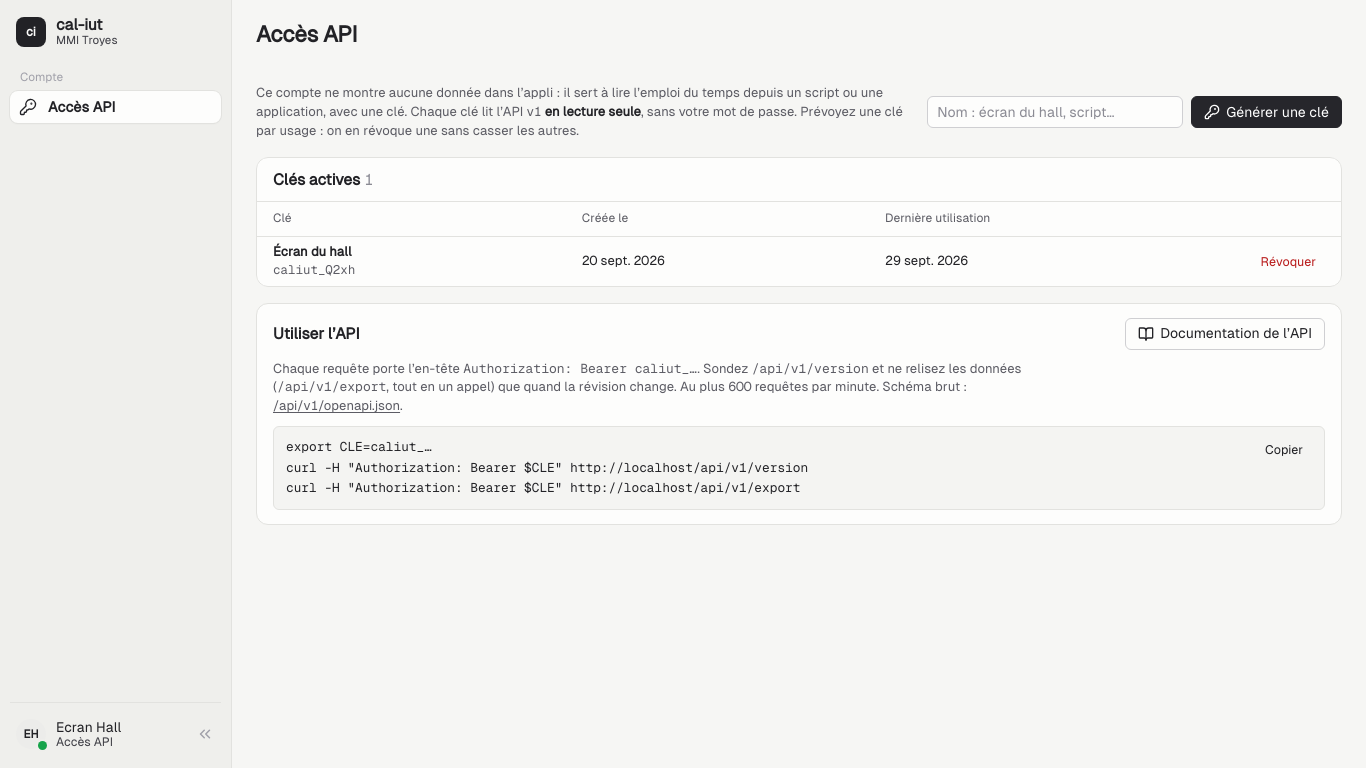
Scenario: App — compte « Accès API » › navigation réduite à cet écran, sans recherche ni semaine
expect the text "Écran du hall" is shown: met, box [273, 244, 352, 259]
Ctrl K n'ouvre rien.
Press k
Le menu du compte : rôle, thème, déconnexion — pas d'entrée « Clé API ».
Click the button with aria-label "compte ecran.hall@x.test". click: (98, 734)
box: [10, 713, 185, 756]
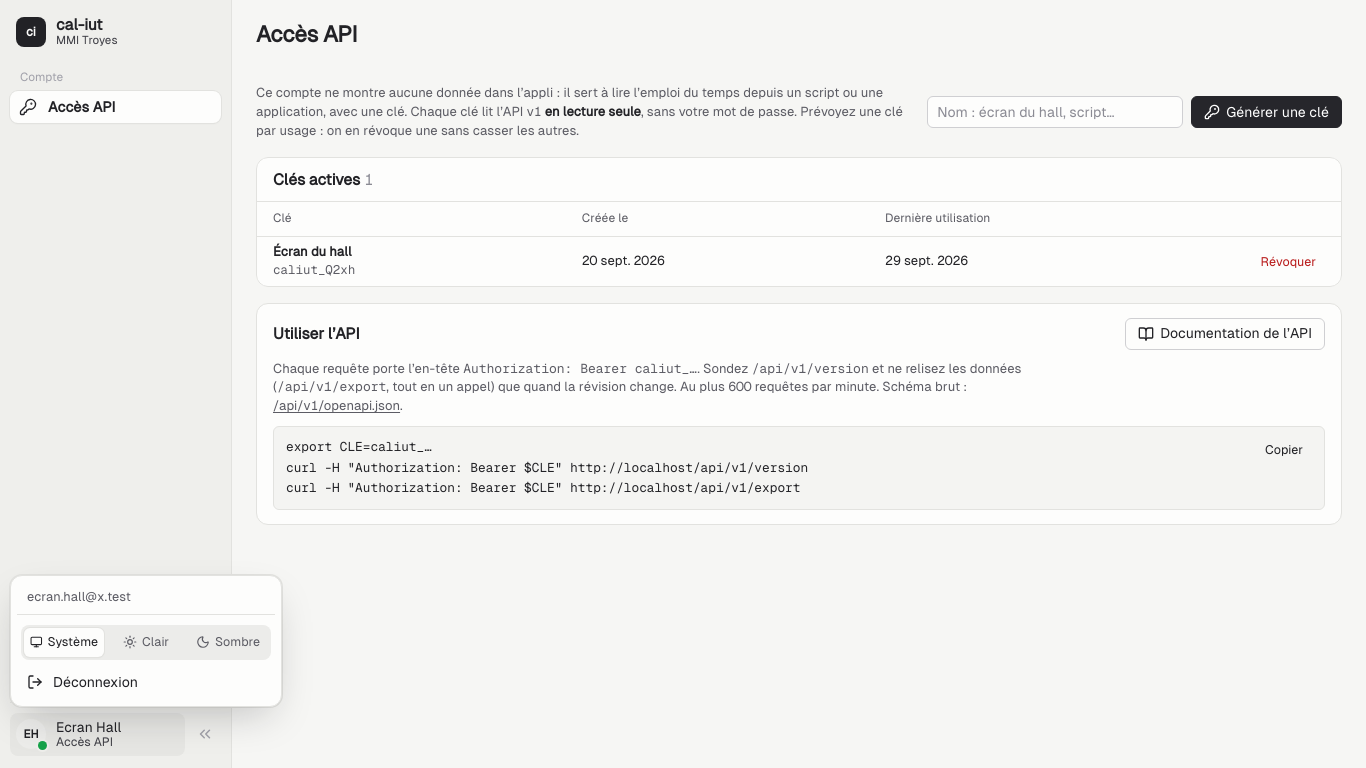
expect the text "Accès API" below "ecran.hall@x.test" is shown: met, box [56, 735, 113, 749]
expect the element named "Thème" is shown: met, box [21, 625, 271, 660]
expect the menu item "Déconnexion" is shown: met, box [17, 664, 275, 700]
